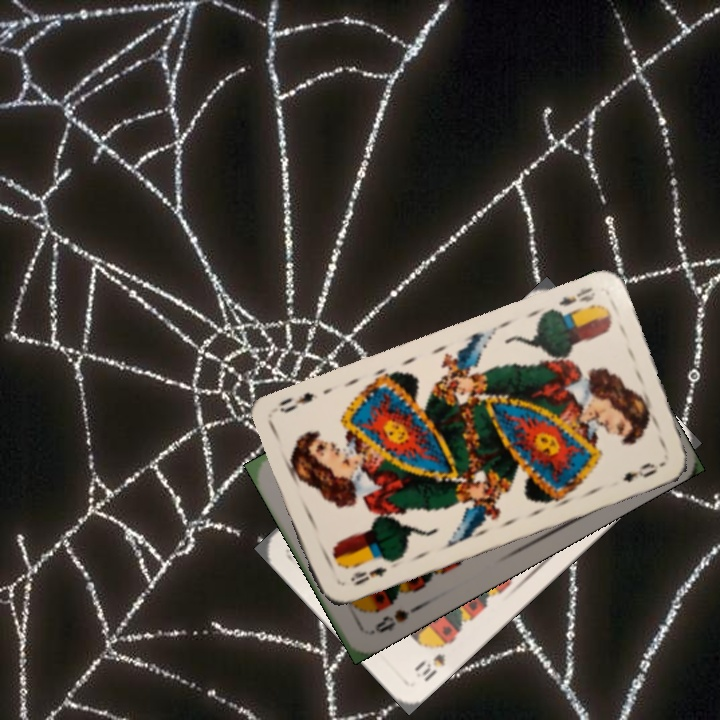EO: (554, 283, 598, 309), (346, 562, 389, 588)
S10: (410, 637, 455, 685)
S8: (366, 605, 412, 637)
